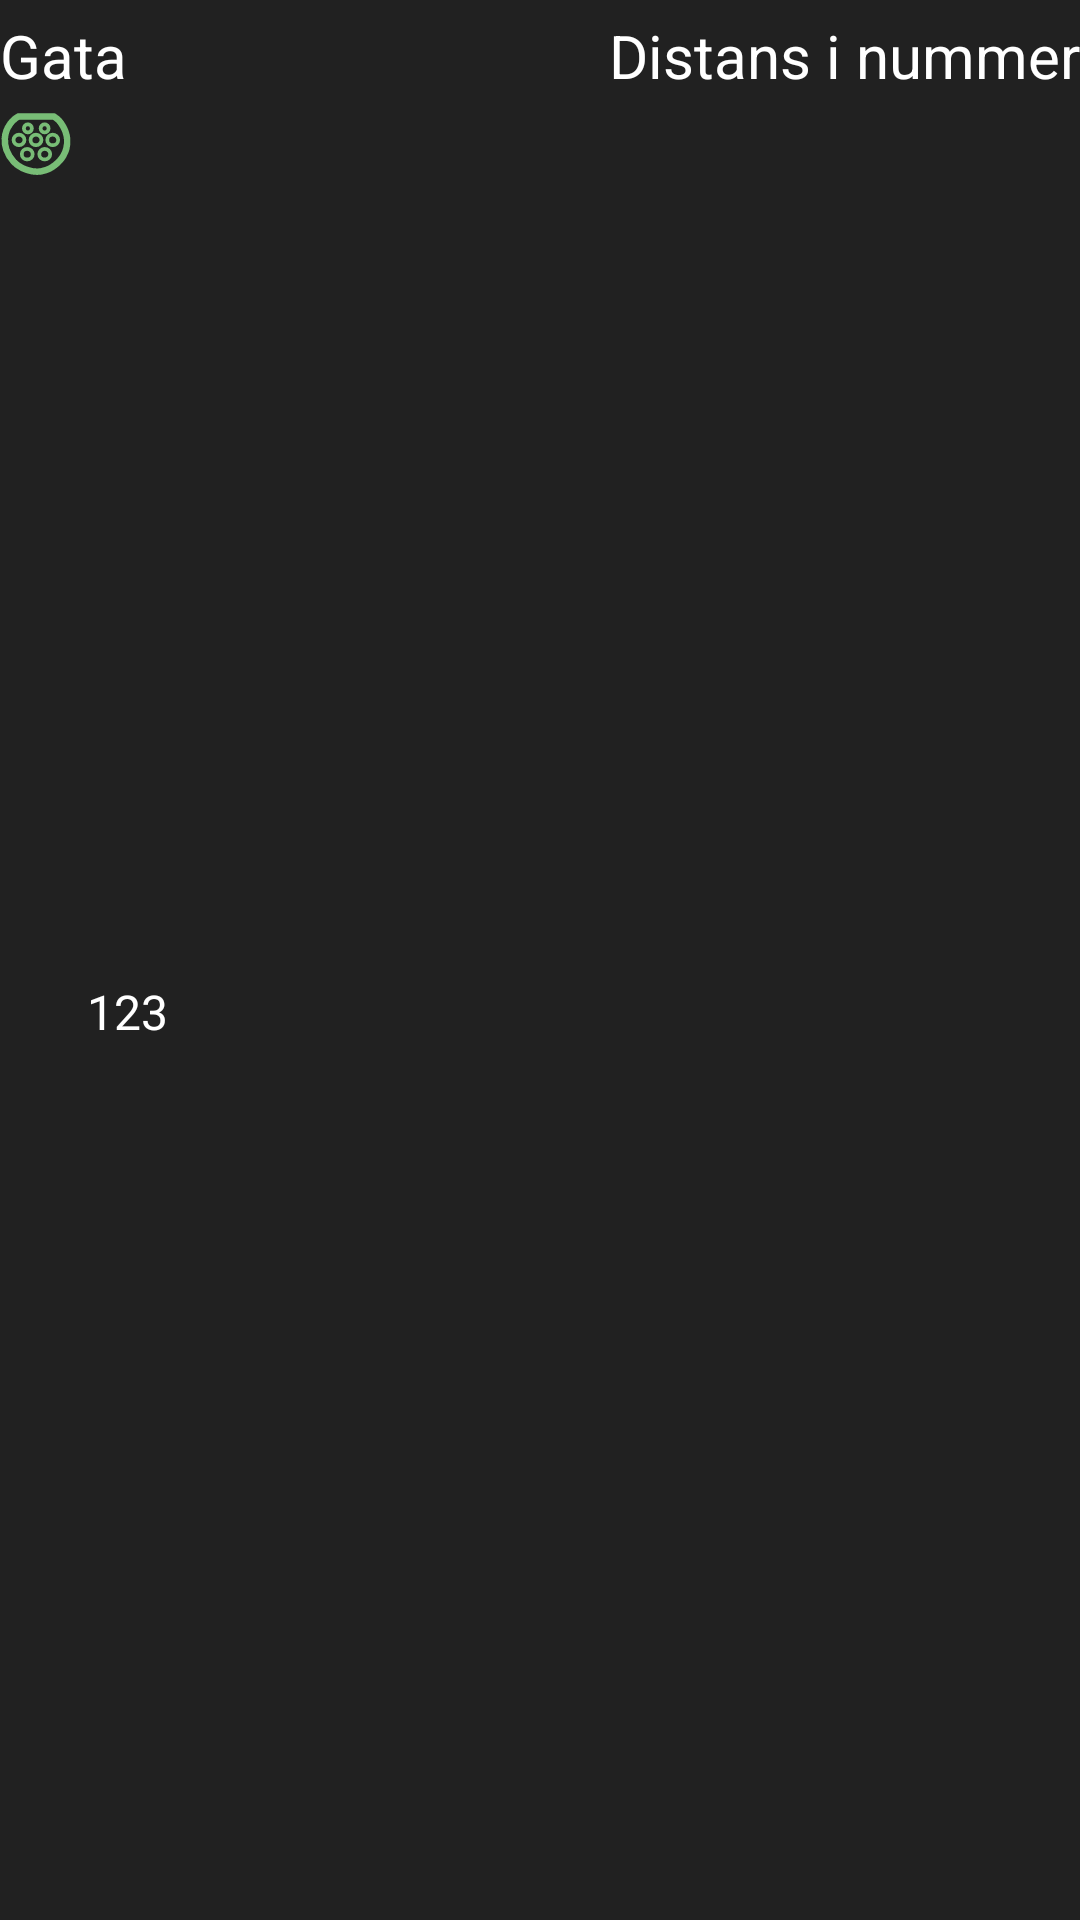

Screen size 1080x1920. Icon name, then its box in pixels as detection(x1, y1, x2, y2):
cable: detection(1, 113, 71, 175)
